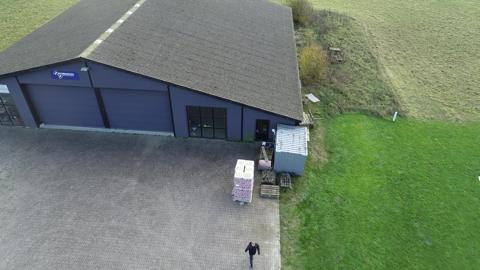RockwoolPallet: (233, 159, 254, 197)
